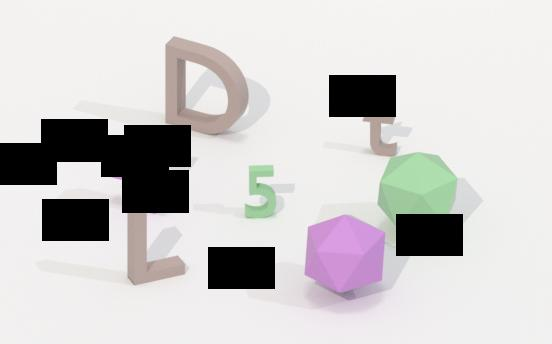4: (107, 120, 171, 218)
5: (242, 163, 279, 222)
d: (162, 34, 250, 140)
dagiac: (302, 212, 388, 299), (376, 149, 460, 230)
l: (124, 193, 189, 287)
t: (361, 101, 400, 157)
